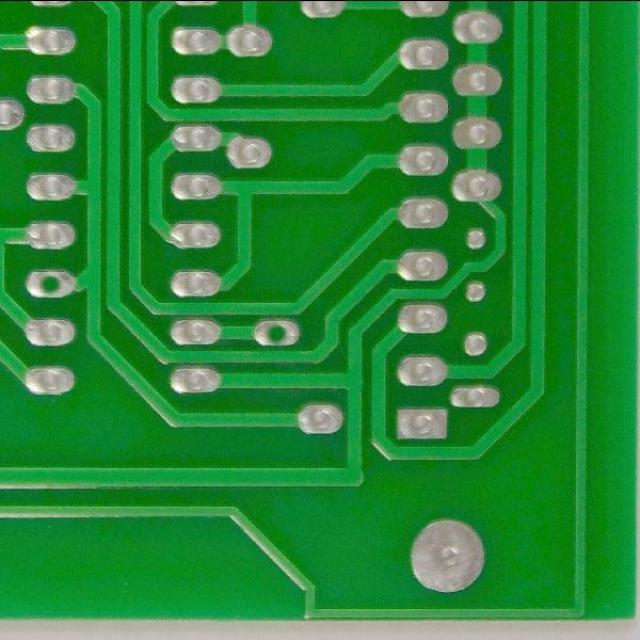Missing_Hole: (21, 264, 78, 303), (250, 318, 304, 351)
